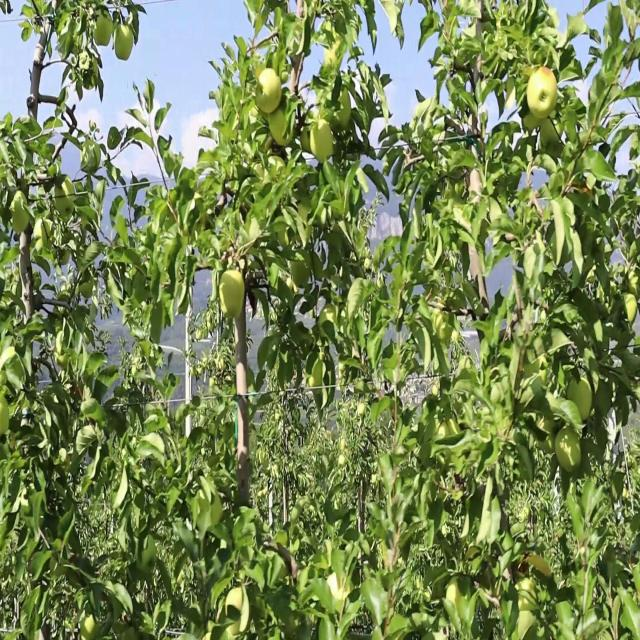apple: (528, 71, 560, 121), (220, 270, 247, 322), (556, 426, 583, 476), (256, 71, 284, 116), (568, 376, 593, 425), (196, 490, 224, 530), (448, 583, 475, 624), (228, 590, 252, 636), (312, 120, 336, 164), (272, 106, 296, 149), (332, 92, 353, 135), (540, 120, 563, 155), (228, 590, 251, 624), (328, 575, 346, 615), (292, 255, 312, 290), (116, 28, 134, 64), (96, 14, 113, 50), (308, 362, 326, 391), (524, 106, 541, 135), (308, 362, 324, 391), (80, 611, 97, 638), (624, 298, 640, 324), (300, 127, 313, 156), (628, 270, 640, 297)
